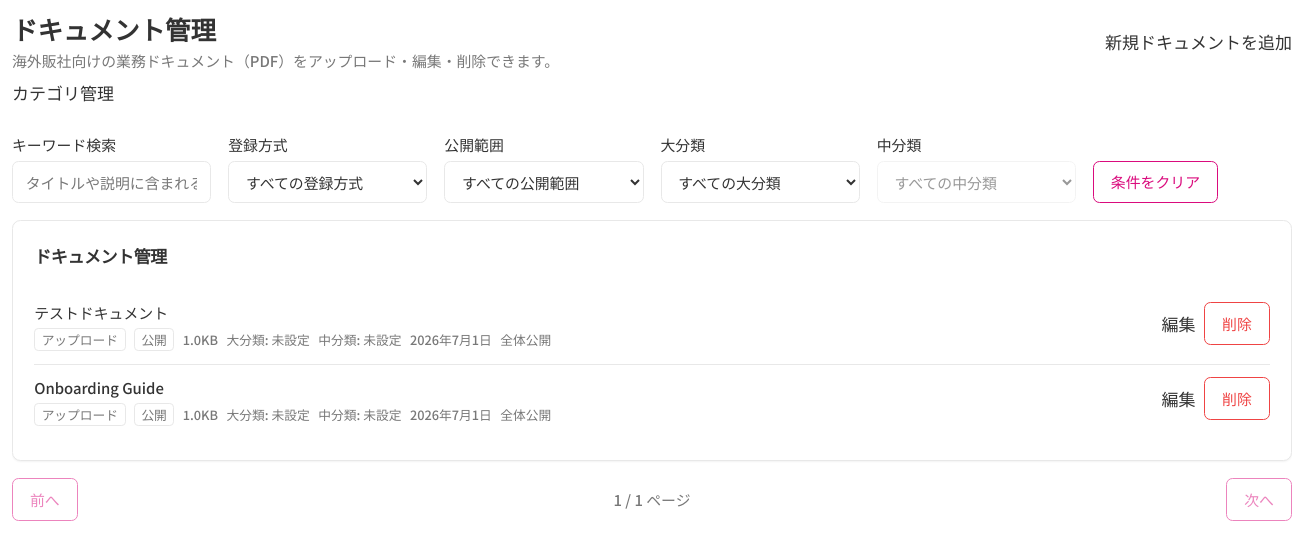
DocumentManagementList › キーワードで絞り込むと一覧が即時に絞り込まれ、0件時はメッセージを表示する
Check: the text "テストドキュメント" is shown, box 34,302 -> 168,323
Check: the text "Onboarding Guide" is shown, box 34,377 -> 164,398
Type "存在しないキーワード" into the field labelled "キーワード検索" at point(112, 182), box 12,161 -> 211,203
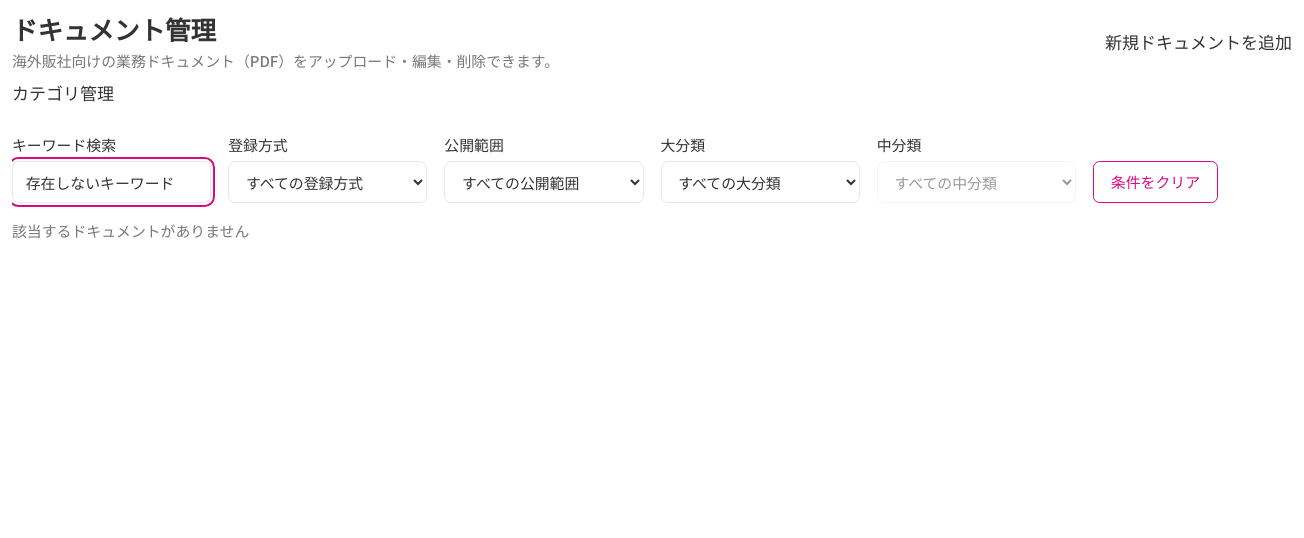
Check: the text "該当するドキュメントがありません" is shown, box 12,220 -> 249,241
Check: the text "テストドキュメント" is gone
Click the button "条件をクリア" at point(1155, 182), box 1093,161 -> 1218,203
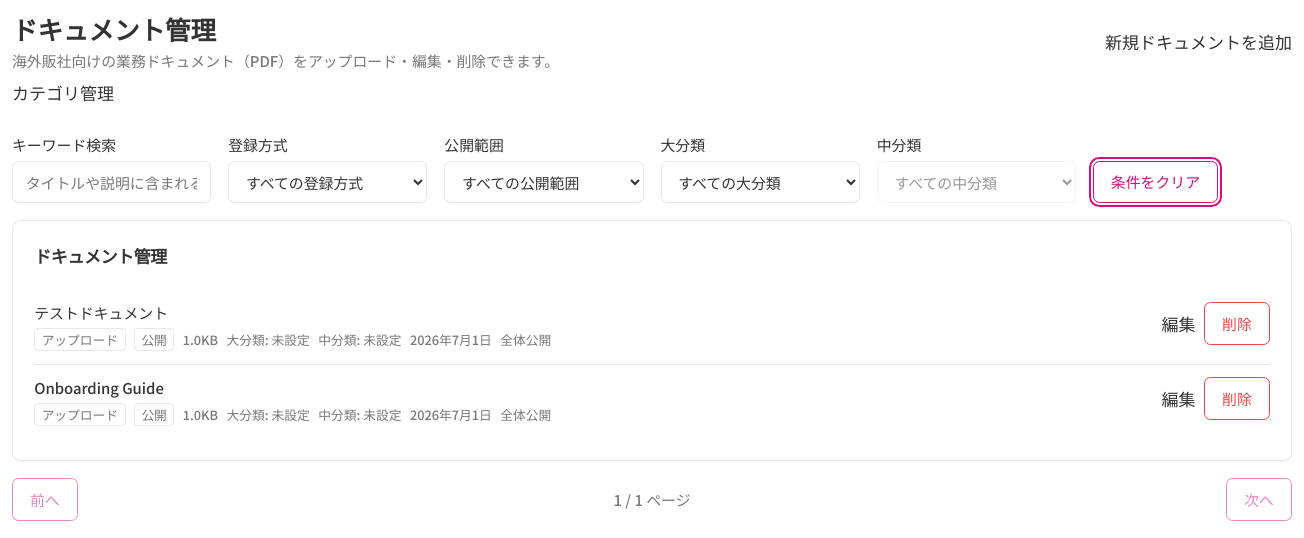
Check: the text "テストドキュメント" is shown, box 34,302 -> 168,323
Check: the text "Onboarding Guide" is shown, box 34,377 -> 164,398
